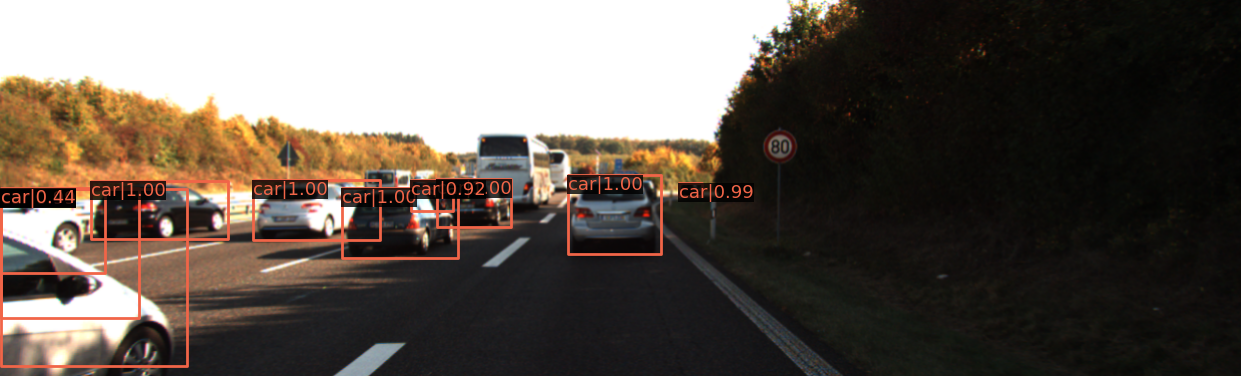car: (1, 190, 200, 376), (342, 187, 456, 256), (93, 183, 228, 240), (1, 186, 93, 266), (570, 175, 657, 255), (254, 182, 369, 241), (441, 181, 513, 228), (628, 181, 658, 200), (681, 183, 703, 197)
